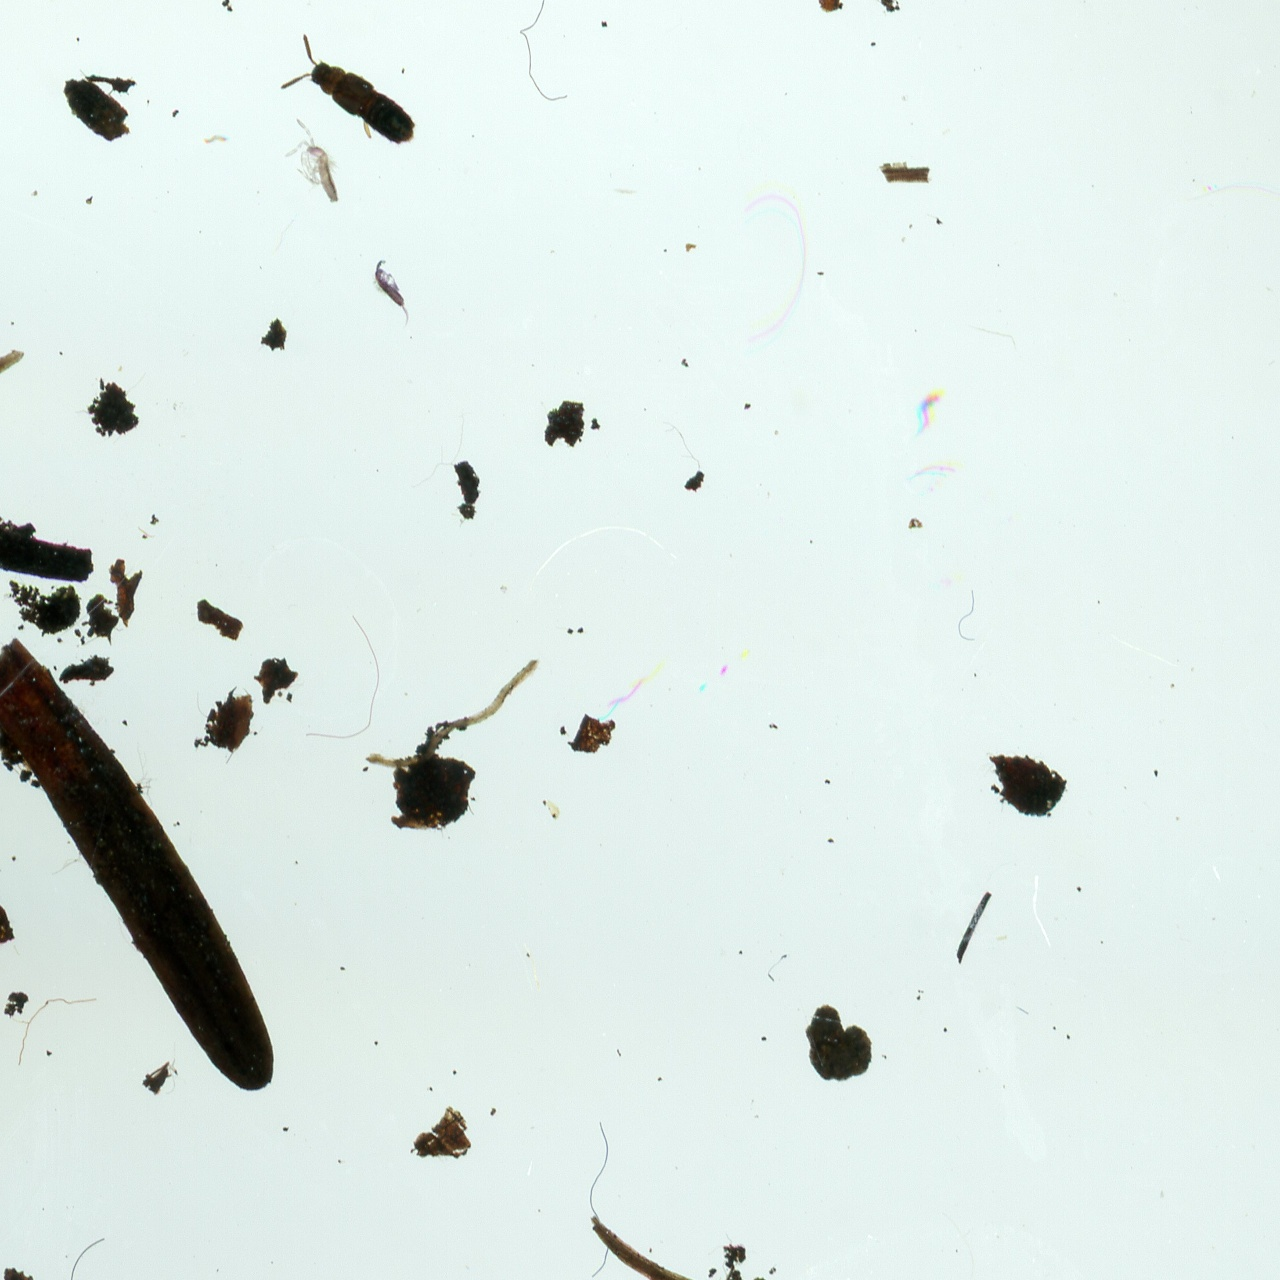arthropod: (278, 25, 415, 147), (277, 114, 338, 205), (374, 256, 410, 325)
